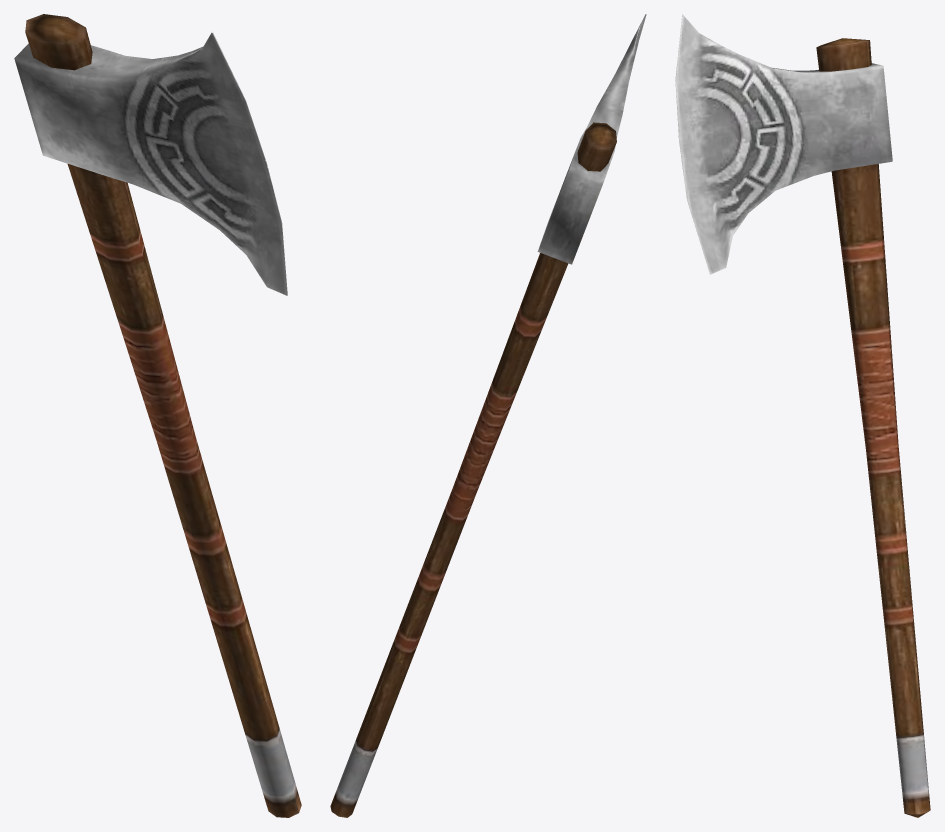
Rendered from weapon-bronzeweapons.glb.
The picture shows the model from 3 angles, left to right: view 1: azimuth 30°, elevation 25°; view 2: azimuth 150°, elevation 25°; view 3: azimuth 270°, elevation 25°; orthographic projection. The views are drawn at different scales.
Bounding box in the file's own units: 0.5588 × 1.62 × 0.5223.
Materials: 1 (1 with a texture image).
